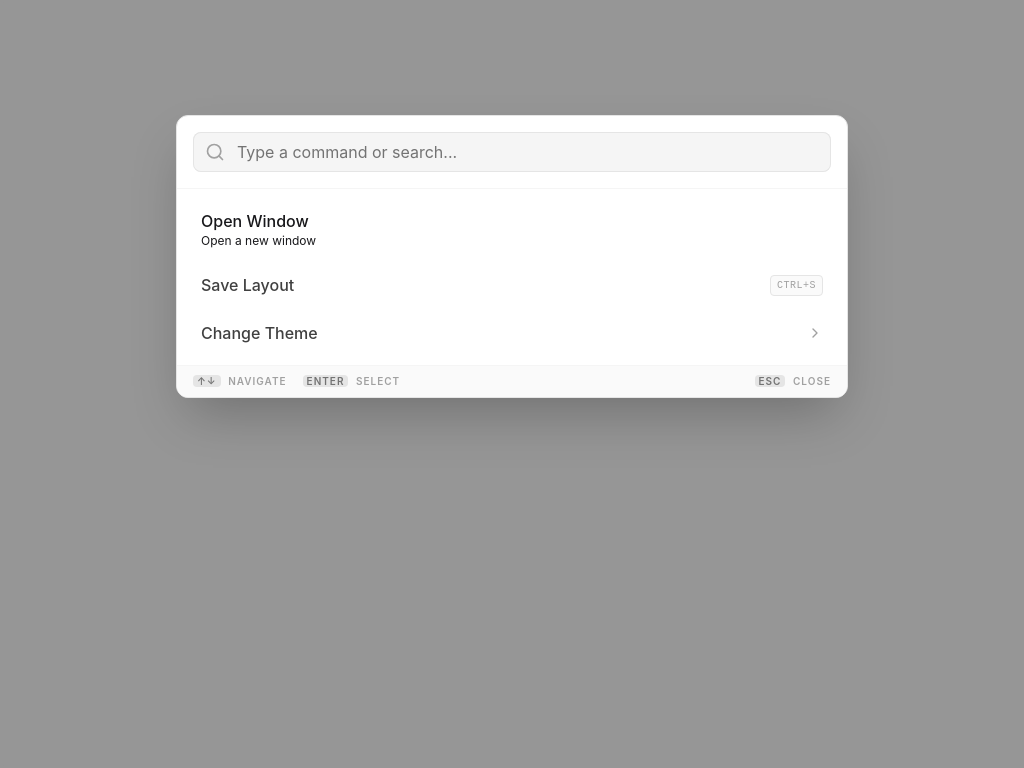
Test: CommandPalette › matches on description text
The width and height of the screenshot is (1024, 768).
Type "new window" into the field at [528, 152], box [237,140,819,164]
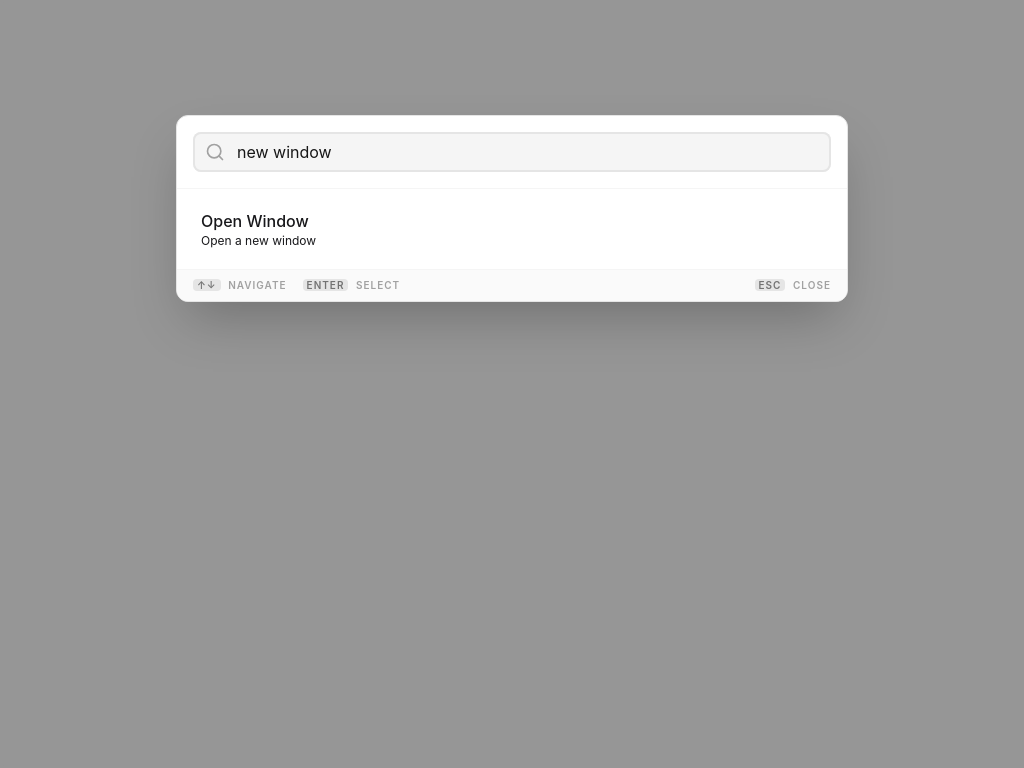
Expected: the text "Open Window" is shown, [201,209,316,233]
Expected: the button "Save Layout" is gone
